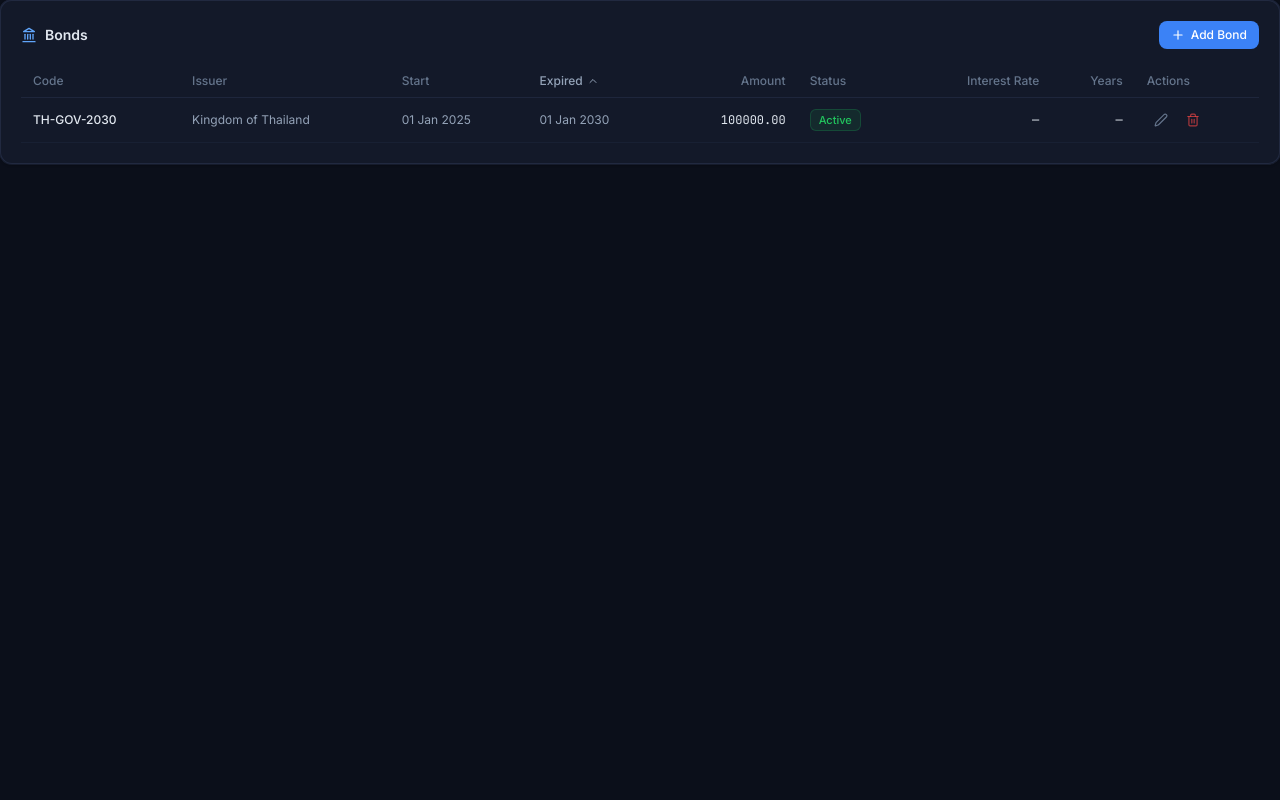
Test case: BondsSection › renders the delete error inline in the confirm modal when deleteBond fails, and keeps the modal open
This screenshot has width=1280, height=800.
Expected: the text "TH-GOV-2030" is shown, [21,98,180,142]
What coordinates should you click on to do the following:
click the button named "Delete bond TH-GOV-2030"
I would click on:
 (1193, 120)
Its box is [1179,106,1207,134].
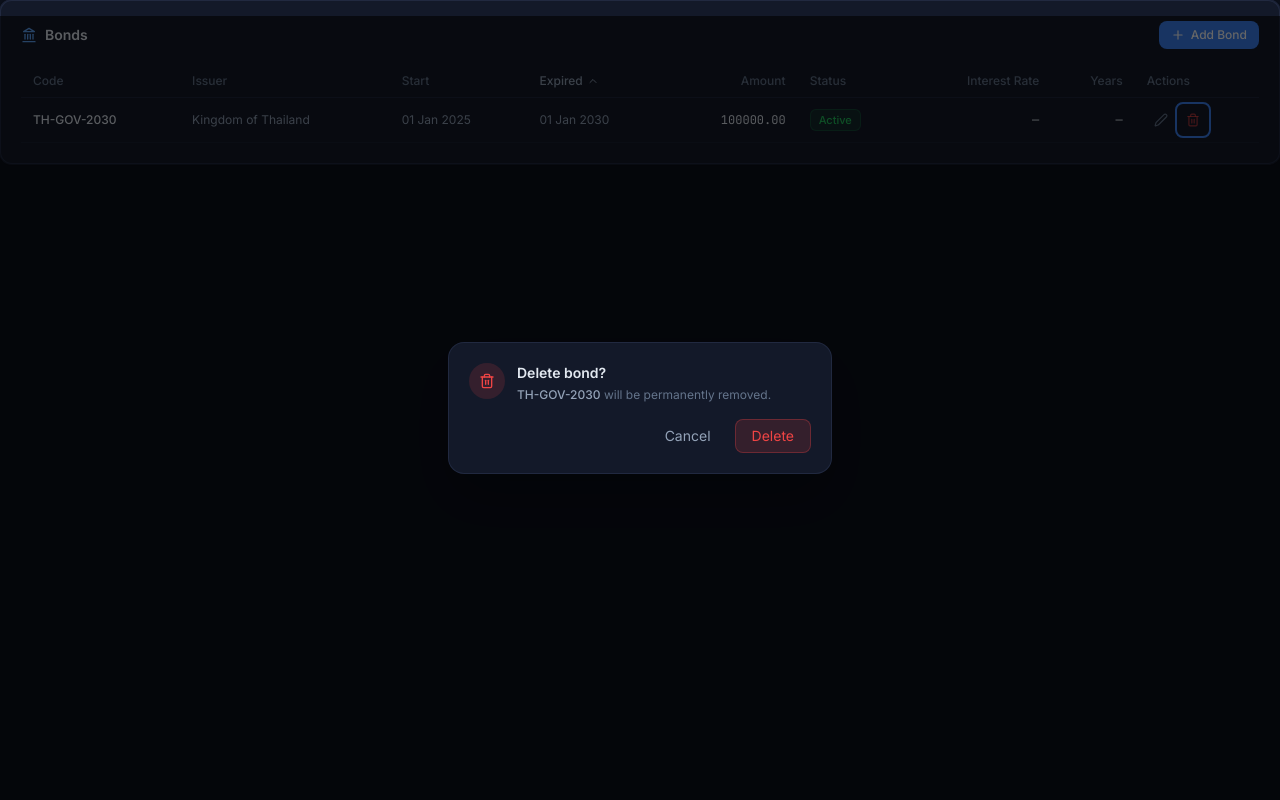
What coordinates should you click on to do the following:
click the button "Delete"
I would click on:
 (773, 436)
Its box is [735,419,811,453].
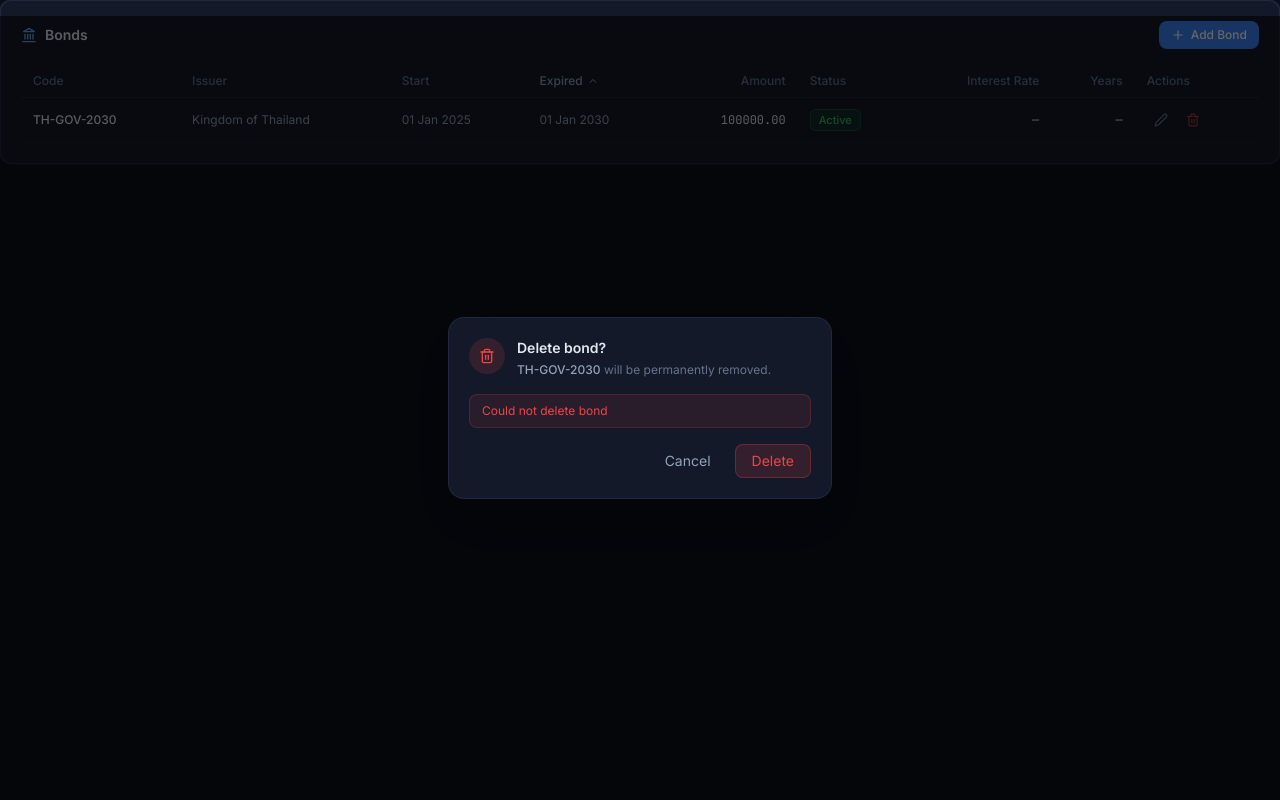
Expected: the dialog is shown, [448,317,832,499]
Expected: the text "Could not delete bond" is shown, [469,394,811,428]
